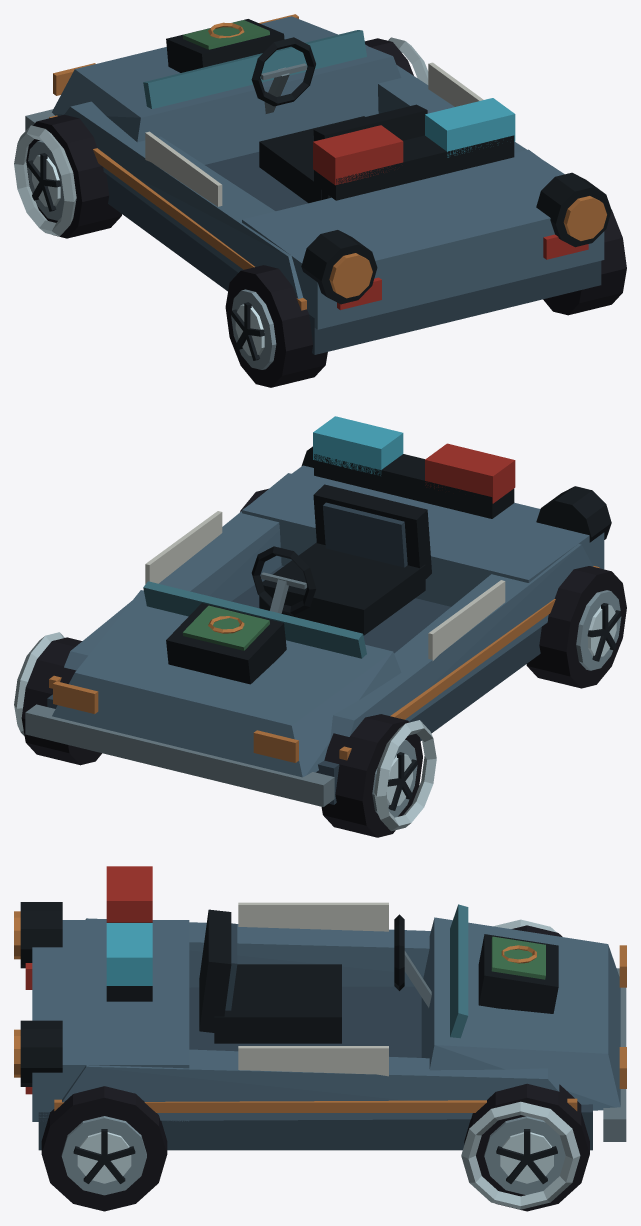
Rendered from kart.glb.
The picture shows the model from 3 angles, top to bottom: view 1: azimuth 30°, elevation 25°; view 2: azimuth 150°, elevation 25°; view 3: azimuth 270°, elevation 25°; orthographic projection. The views are drawn at different scales.
Visible parts, largest first — view 1: identity-police-car-police-car-road-car-body, wheel-rear-left, identity-police-car-motif-thrusters, identity-police-car-driver-cockpit, wheel-front-left, identity-police-car-motif-neon, identity-police-car-motif-scanner, wheel-rear-right, wheel-front-right; view 2: identity-police-car-police-car-road-car-body, identity-police-car-driver-cockpit, wheel-rear-left, wheel-front-left, identity-police-car-motif-scanner, identity-police-car-motif-neon, wheel-front-right, identity-police-car-motif-thrusters; view 3: identity-police-car-police-car-road-car-body, identity-police-car-driver-cockpit, wheel-rear-right, identity-police-car-motif-neon, wheel-front-right, identity-police-car-motif-scanner, identity-police-car-motif-thrusters.
Part boxes in pixels (x1,y1,x2,y2): identity-police-car-police-car-road-car-body: (25,14,604,354); wheel-rear-left: (225,265,327,387); identity-police-car-motif-thrusters: (301,172,611,304); identity-police-car-driver-cockpit: (251,37,427,203); wheel-front-left: (26,114,121,238); identity-police-car-motif-neon: (14,37,428,310); identity-police-car-motif-scanner: (166,19,284,72); wheel-rear-right: (543,209,626,315); wheel-front-right: (364,38,413,75); identity-police-car-police-car-road-car-body: (25,416,604,806); identity-police-car-driver-cockpit: (251,484,431,635); wheel-rear-left: (526,566,626,688); wheel-front-left: (321,714,422,837); identity-police-car-motif-scanner: (166,603,286,684); identity-police-car-motif-neon: (14,566,599,831); wheel-front-right: (21,637,101,765); identity-police-car-motif-thrusters: (301,446,611,542); identity-police-car-police-car-road-car-body: (25,866,626,1150); identity-police-car-driver-cockpit: (199,909,431,1043); wheel-rear-right: (41,1086,167,1211); identity-police-car-motif-neon: (54,919,580,1209); wheel-front-right: (464,1083,589,1211); identity-police-car-motif-scanner: (478,934,558,1013); identity-police-car-motif-thrusters: (14,902,62,1086).
Size of the model in its own units: 2.13 by 1.13 by 2.93.
